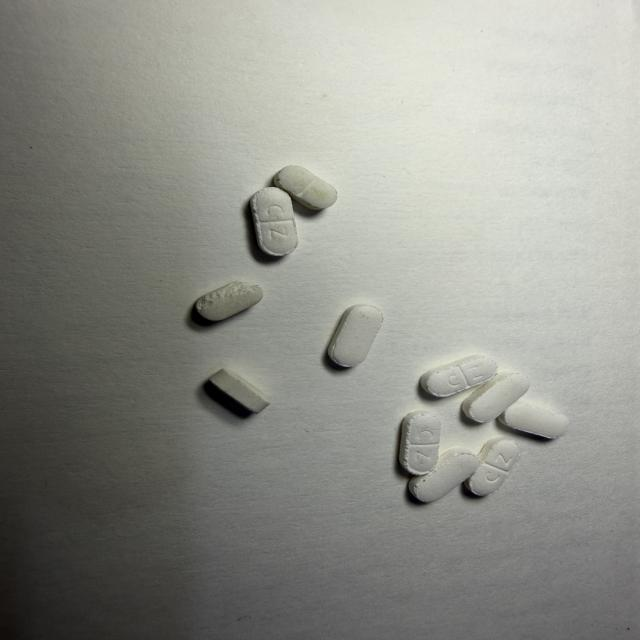pill: (409, 448, 479, 502), (462, 372, 529, 422), (328, 305, 382, 367), (465, 437, 520, 496), (421, 355, 497, 397), (251, 188, 297, 256), (274, 166, 337, 209), (196, 281, 263, 320), (210, 369, 269, 413), (400, 411, 440, 475), (499, 401, 568, 438)
